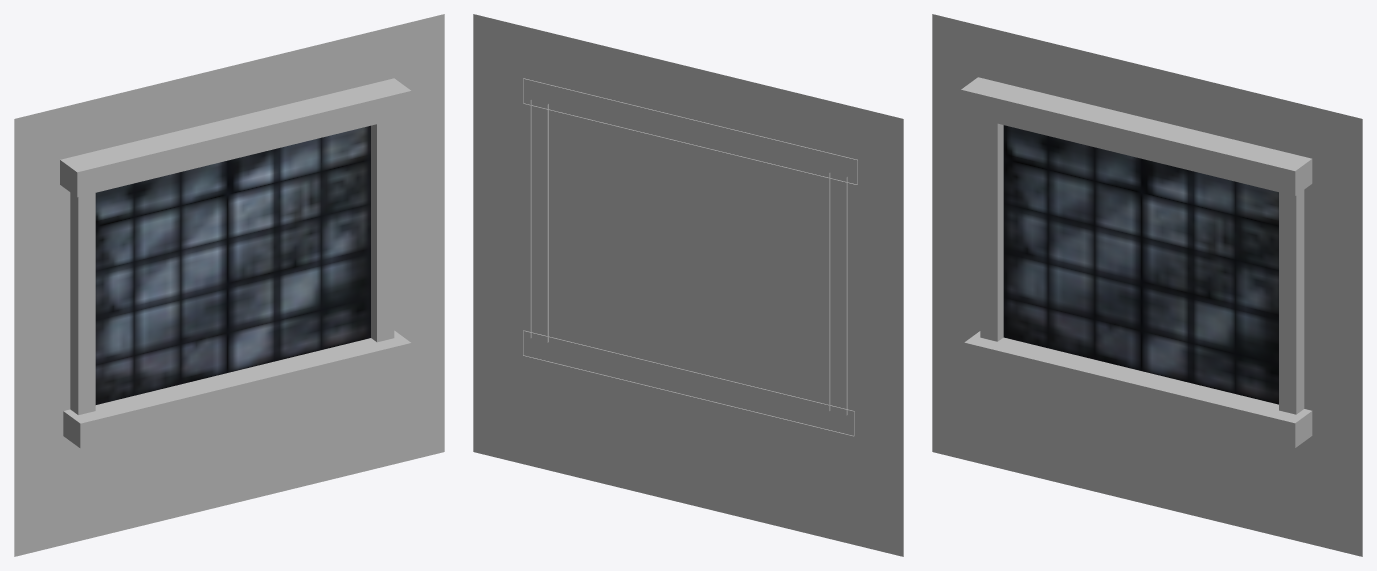
Rendered from SM_zhucheng_qiang01.FBX.
3 renders of one model, left to right at view 1: azimuth 30°, elevation 25°; view 2: azimuth 150°, elevation 25°; view 3: azimuth 330°, elevation 25°, orthographic.
Parts seen in each view (by area): view 1: SM_zhucheng_qiang01a, SM_zhucheng_qiang01b; view 2: SM_zhucheng_qiang01a; view 3: SM_zhucheng_qiang01a, SM_zhucheng_qiang01b.
Part boxes in pixels (<box>): SM_zhucheng_qiang01a: <box>14,14,444,556</box>; SM_zhucheng_qiang01b: <box>95,125,370,404</box>; SM_zhucheng_qiang01a: <box>473,14,903,556</box>; SM_zhucheng_qiang01a: <box>932,14,1362,556</box>; SM_zhucheng_qiang01b: <box>1003,125,1278,404</box>.
Size of the model in its own units: 357 by 347 by 26.16.
